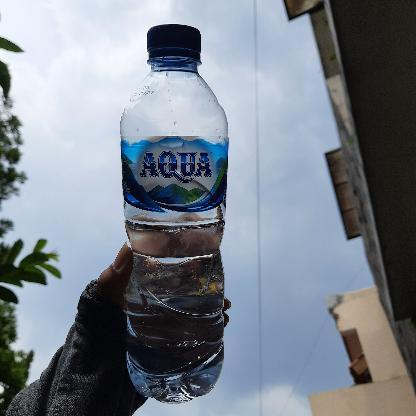Plastic Bottle: (120, 22, 230, 405)
